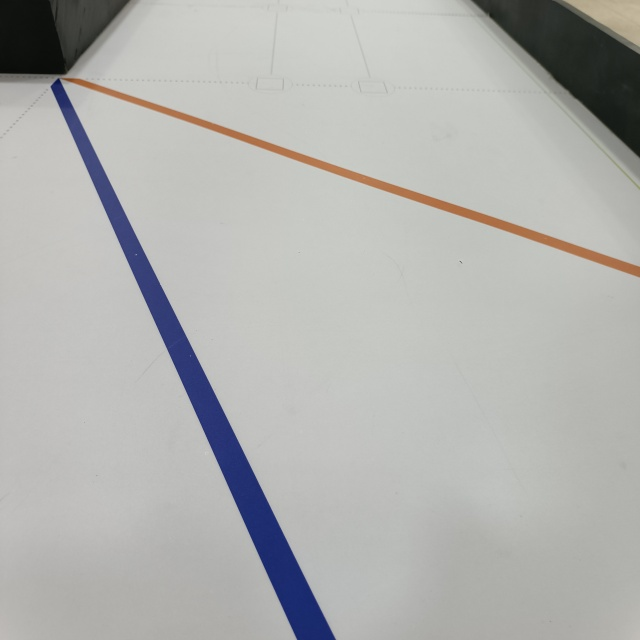blue line: (43, 77, 343, 640)
orange line: (63, 70, 640, 285)
